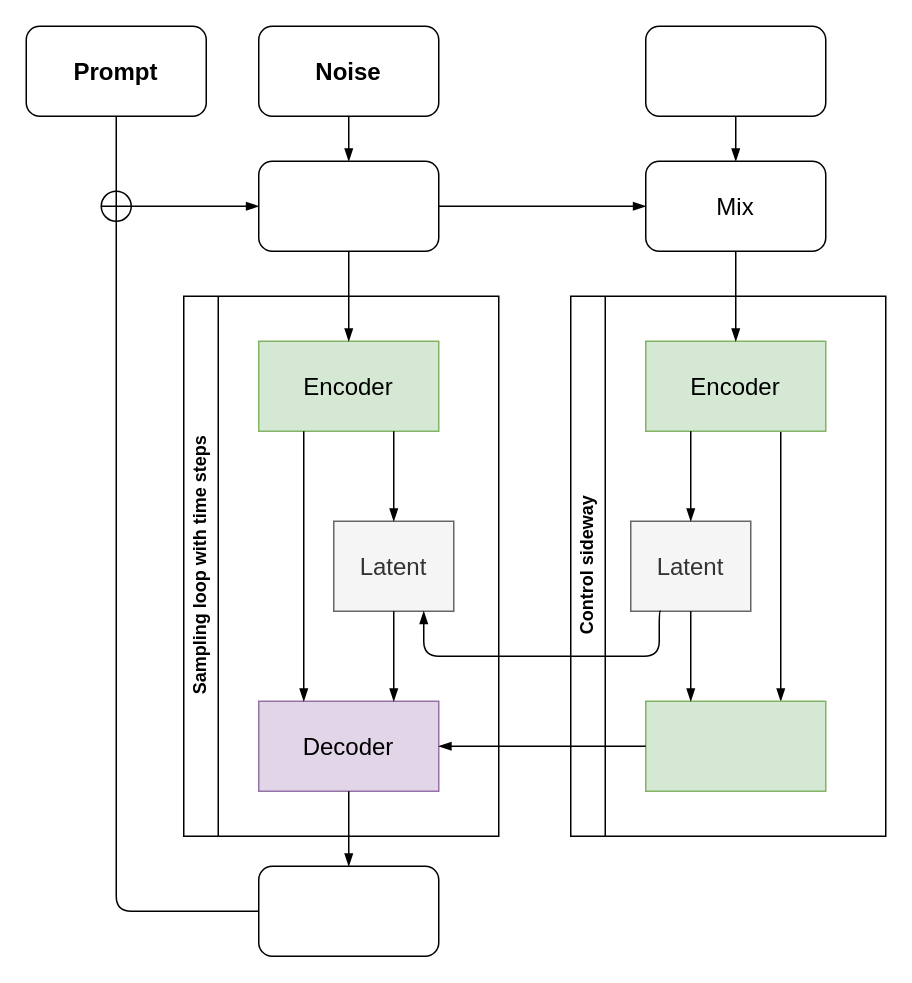
The diagram is 912 pixels wide and 983 high, and some of its shapes have lost their labels. The centre of each missing label's shape, as x and y in pixels:
"Code selection" goes at pixel 735 745.
"Control Condition" goes at pixel 735 70.
"Input" goes at pixel 348 205.
"Output" goes at pixel 348 910.
